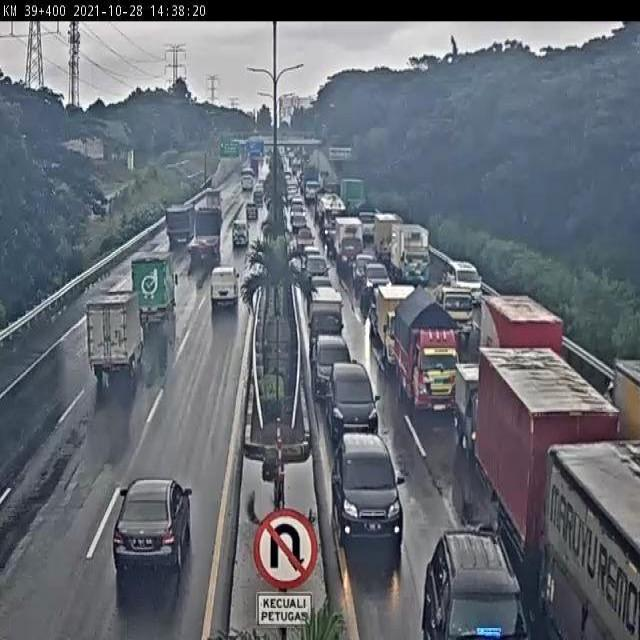big truck: (473, 354, 607, 574), (552, 432, 640, 640), (480, 291, 565, 381), (600, 357, 640, 444), (181, 210, 224, 262), (163, 204, 192, 251)
car: (78, 467, 224, 577), (419, 514, 524, 640), (333, 417, 397, 548), (327, 359, 393, 429), (200, 275, 248, 324), (315, 335, 353, 396), (437, 249, 475, 296), (227, 221, 250, 260), (242, 204, 261, 229)
small truck: (396, 297, 471, 419), (75, 284, 141, 404), (123, 243, 179, 332), (427, 275, 484, 352), (388, 219, 436, 292), (377, 282, 416, 366), (452, 366, 494, 442), (369, 207, 408, 270), (301, 291, 345, 341)
